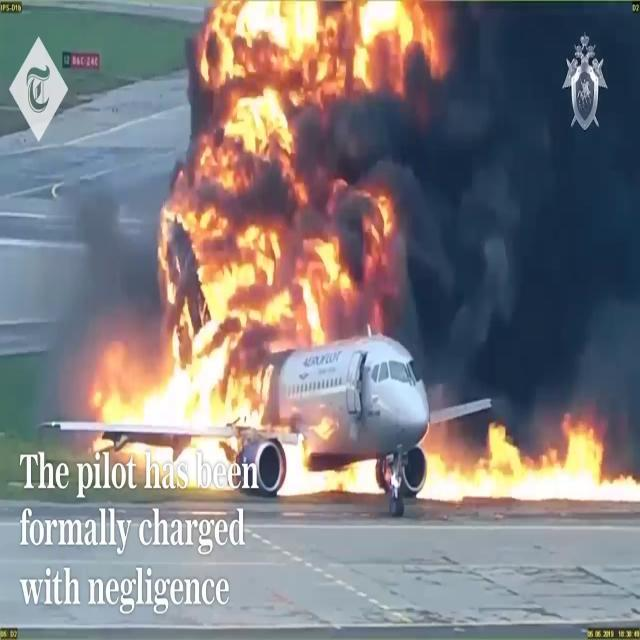Fire: (80, 1, 530, 458), (86, 1, 387, 446), (428, 412, 639, 505)
